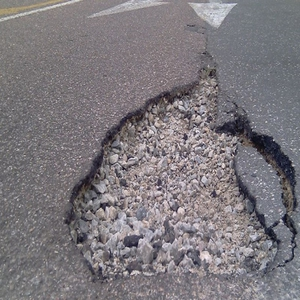pothole: (71, 67, 299, 276)
